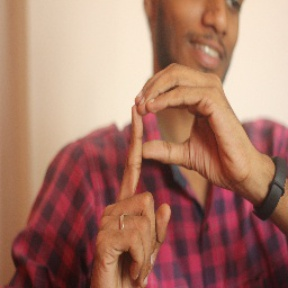P: (86, 60, 248, 272)
